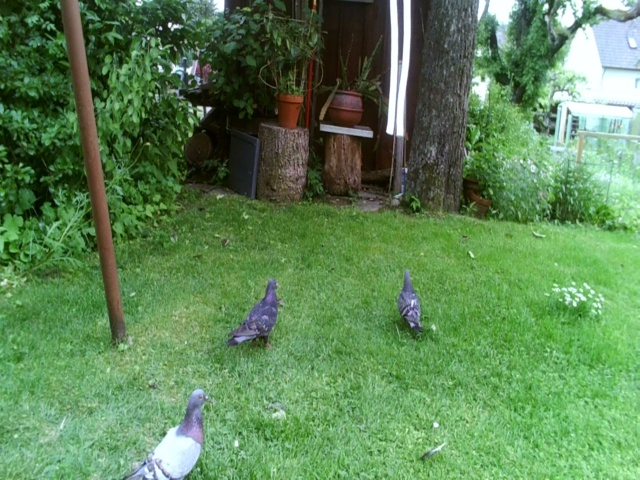Pigeon: (126, 386, 218, 480), (227, 276, 288, 351), (387, 264, 432, 346)
